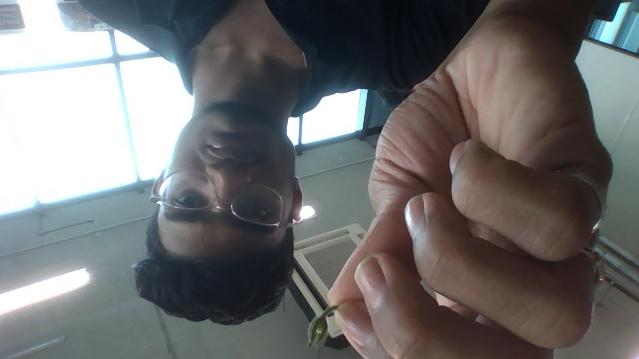Fruit Bud: (306, 317, 328, 350)
